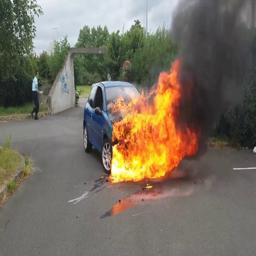fire: (110, 58, 199, 180)
